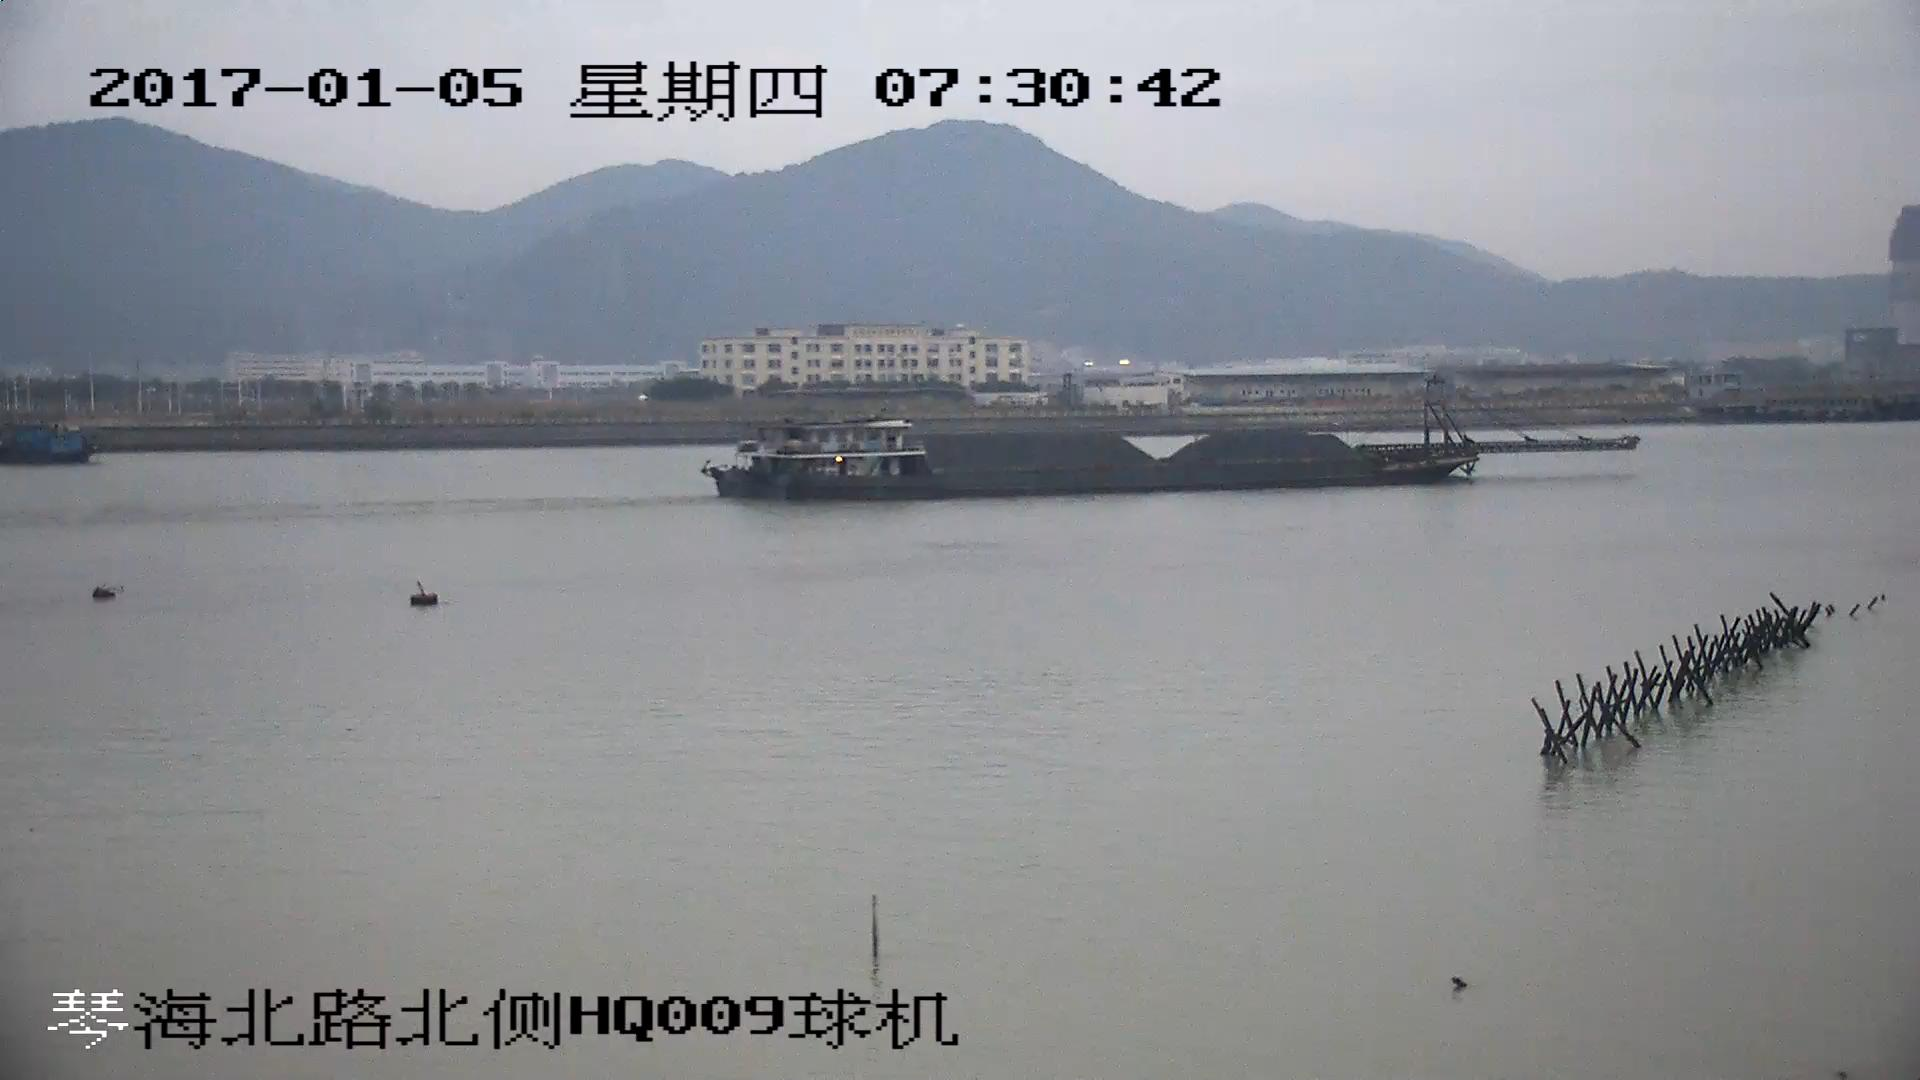ore carrier: (706, 387, 1640, 504)
